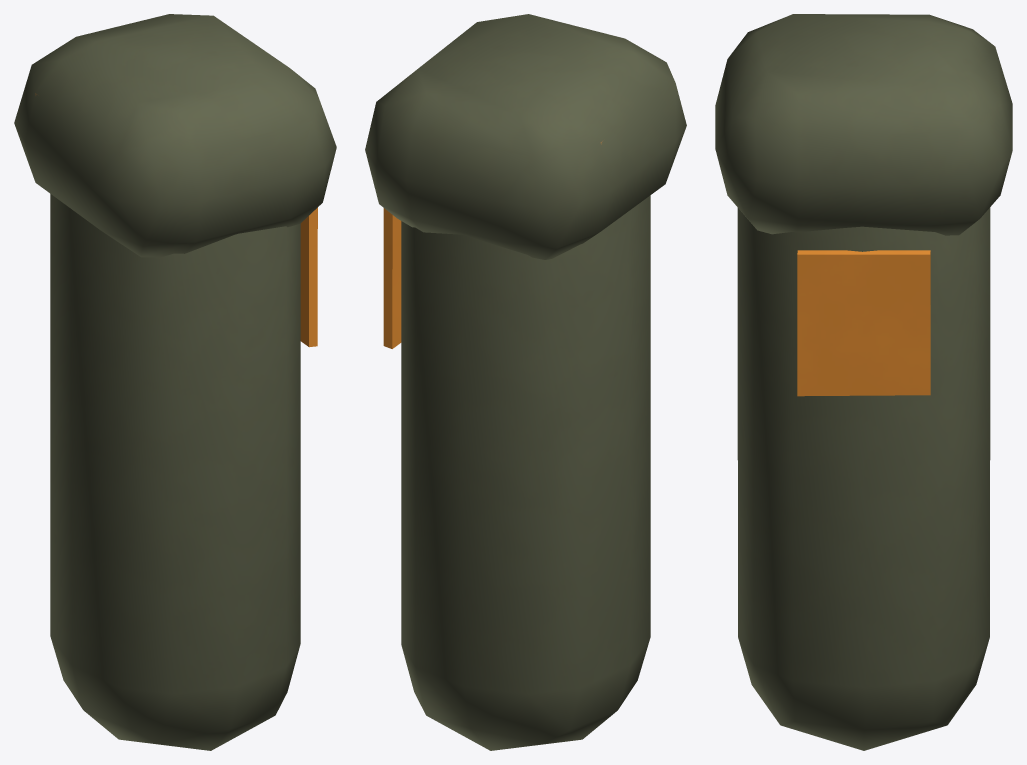
Rendered from SM_OperatorAUpperArm_LOD1.fbx.
The picture shows the model from 3 angles, left to right: view 1: azimuth 30°, elevation 25°; view 2: azimuth 150°, elevation 25°; view 3: azimuth 270°, elevation 25°; orthographic projection.
Visible parts, largest first — view 1: SM_OperatorAUpperArm_LOD1; view 2: SM_OperatorAUpperArm_LOD1; view 3: SM_OperatorAUpperArm_LOD1.
Boxes of the visible parts, x1,y1,x2,y2 form: SM_OperatorAUpperArm_LOD1: [14, 14, 336, 750]; SM_OperatorAUpperArm_LOD1: [365, 14, 686, 750]; SM_OperatorAUpperArm_LOD1: [715, 14, 1012, 750].
Size of the model in its own units: 0.121 by 0.3356 by 0.131.
Materials: 1 (1 with a texture image).
